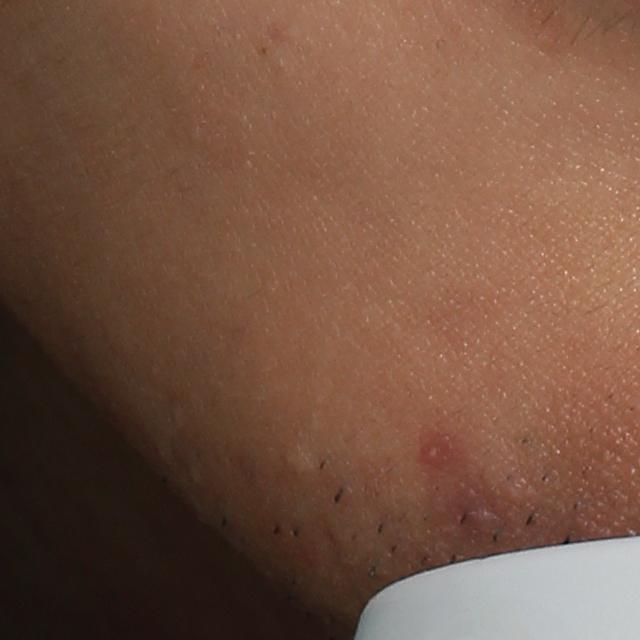papule: (410, 427, 456, 474)
